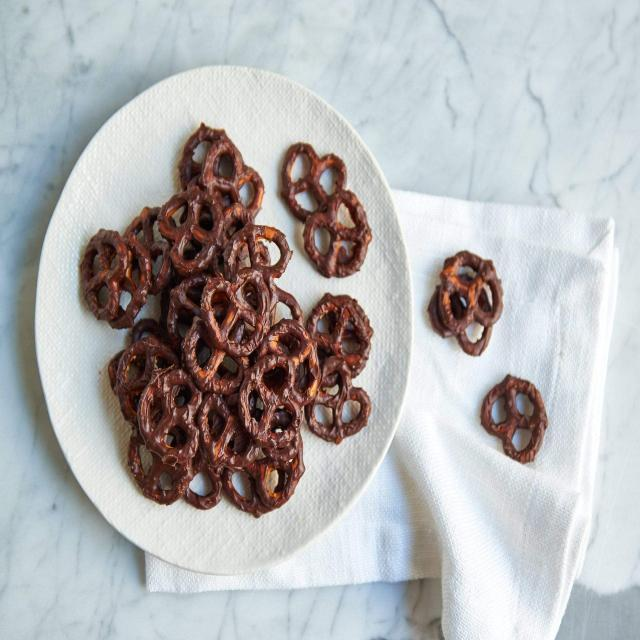Salatini: (77, 123, 377, 517), (427, 250, 550, 468)
